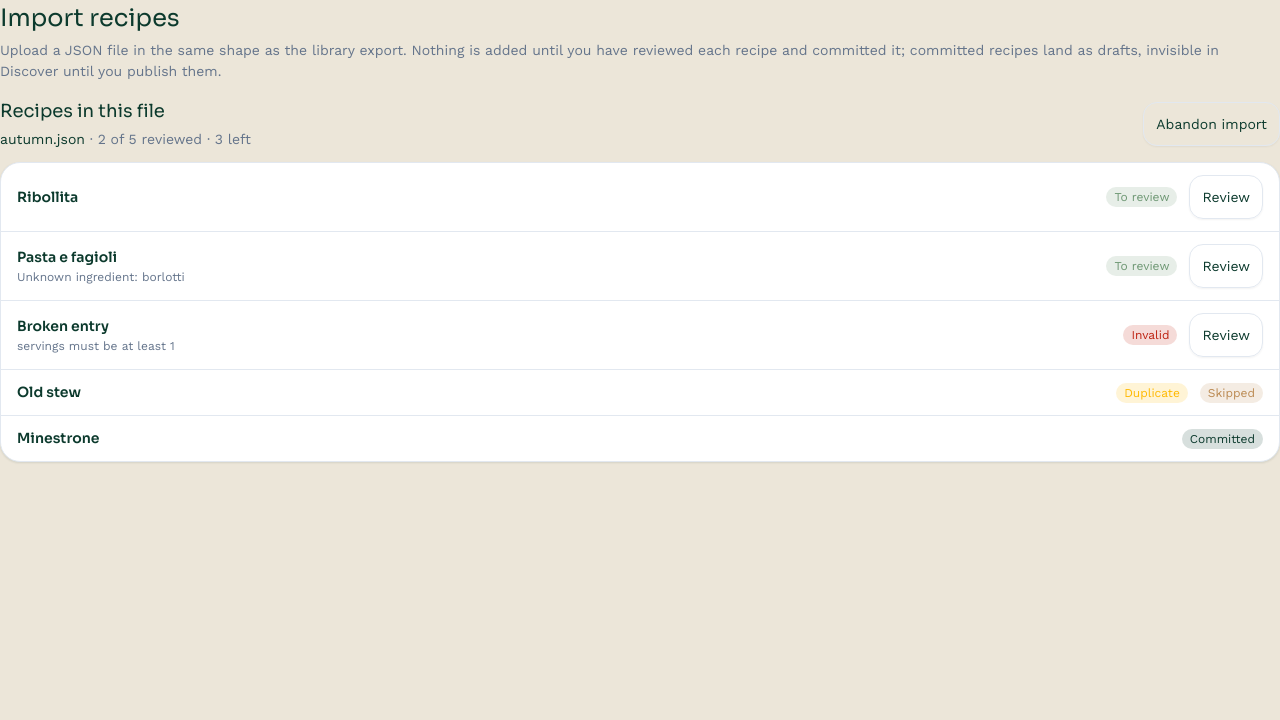
Scenario: a failed discard says so and keeps the batch on screen
Expected: the text "Ribollita" is shown, [17,188,78,206]
What coordinates should you click on to do the following:
click the button "Abandon import"
I would click on:
 (1212, 124)
Its box is [1143,102,1279,146].
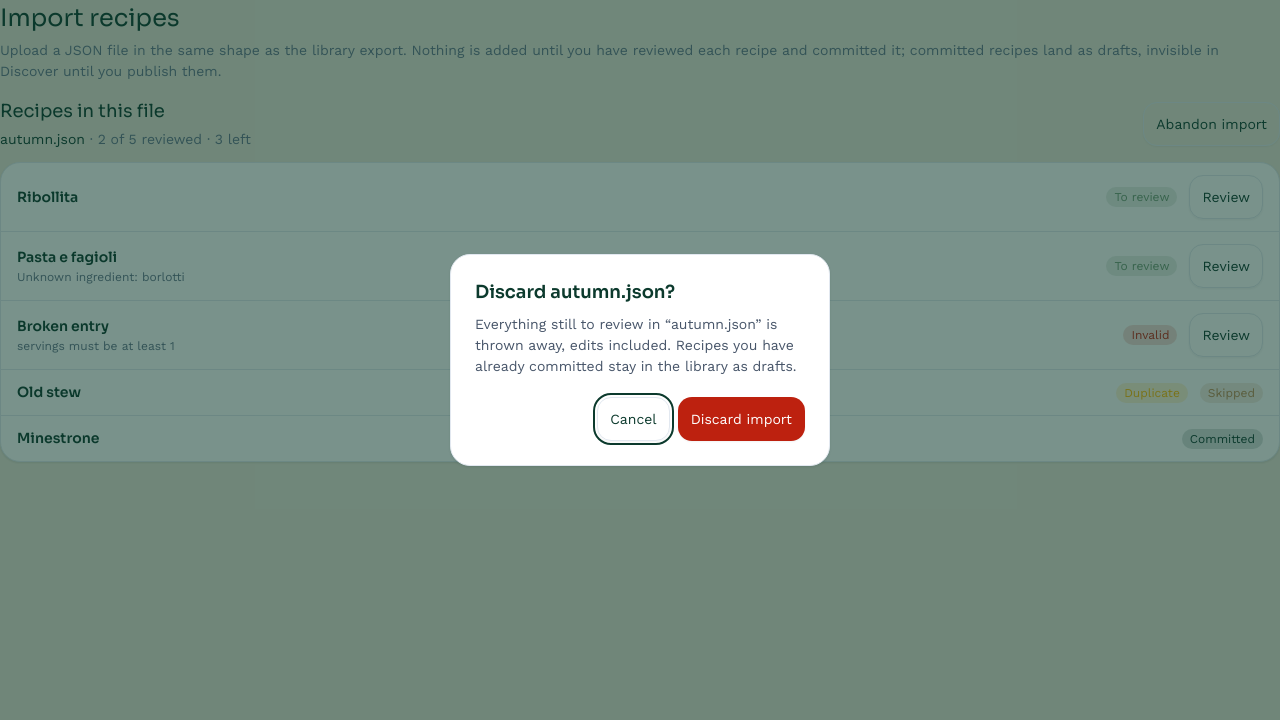
What coordinates should you click on to do the following:
click the button "Discard import"
I would click on:
 (741, 419)
Its box is [678,397,805,441].
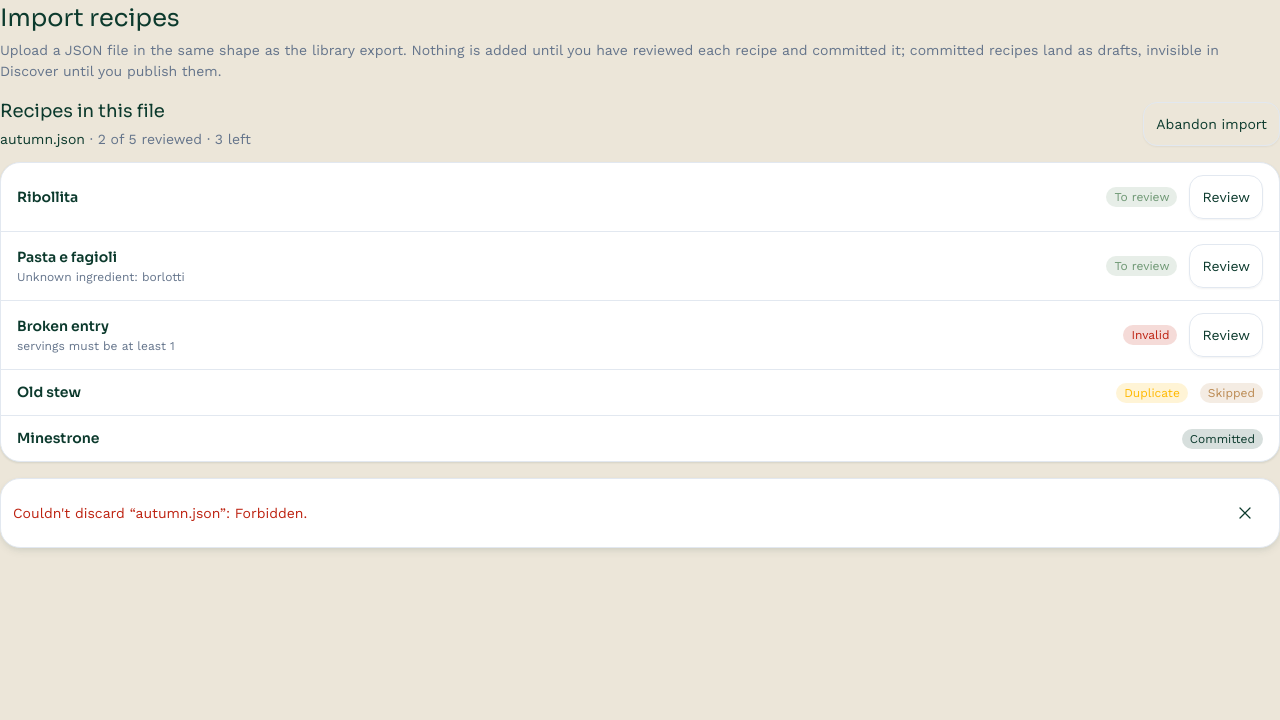
Expected: the text "Ribollita" is shown, [17,188,78,206]
Expected: the message shows "Forbidden", [13,504,307,520]
